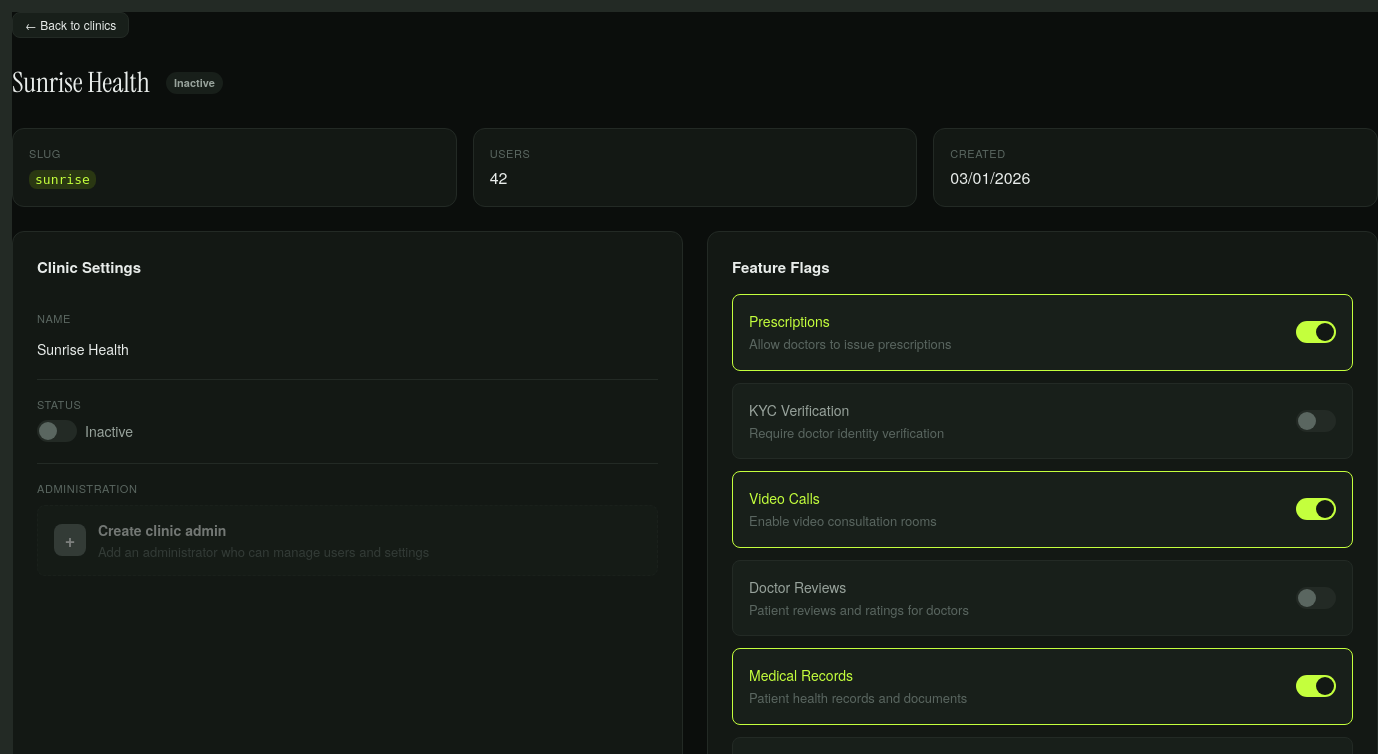
Test: ClinicDetailPage › status toggle › on error shows settingsError inline
expect the heading "Sunrise Health" is shown: met, box [12,62,150,104]
Step 1. Click the switch labelled "Inactive" → (85, 431), box [37,420,133,442]
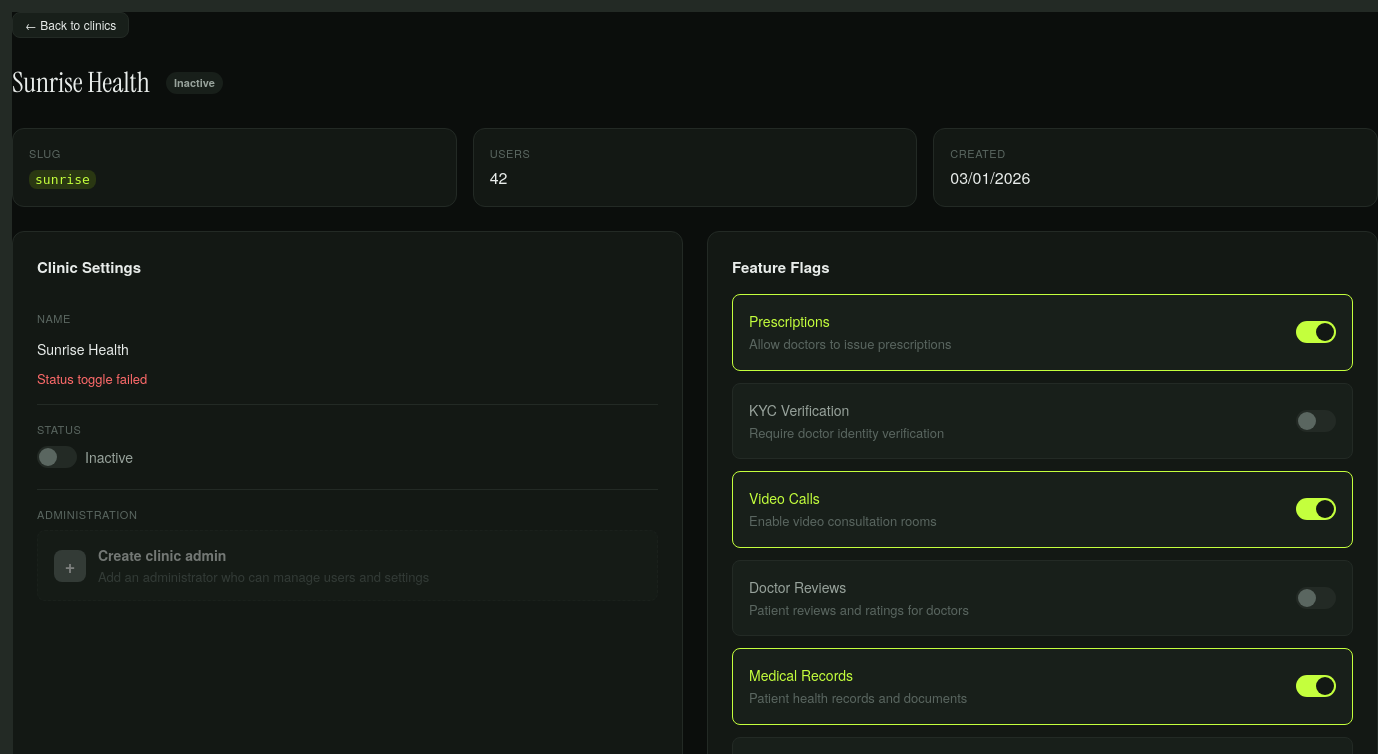
expect the text "Status toggle failed" is shown: met, box [37,368,147,388]
